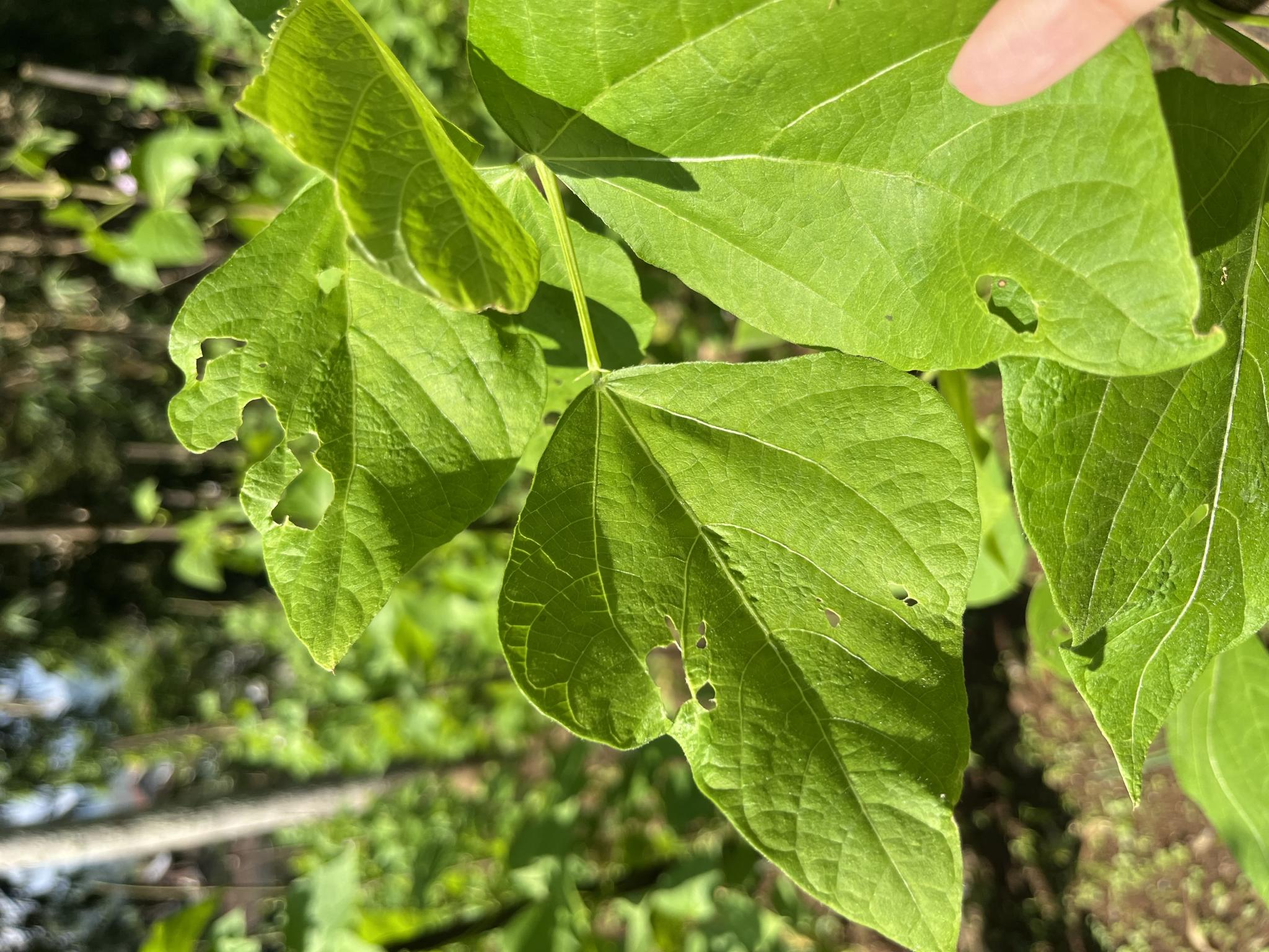mozaik: (627, 592, 720, 728), (192, 396, 281, 514), (271, 419, 336, 531), (961, 272, 1045, 331), (193, 333, 245, 392)
